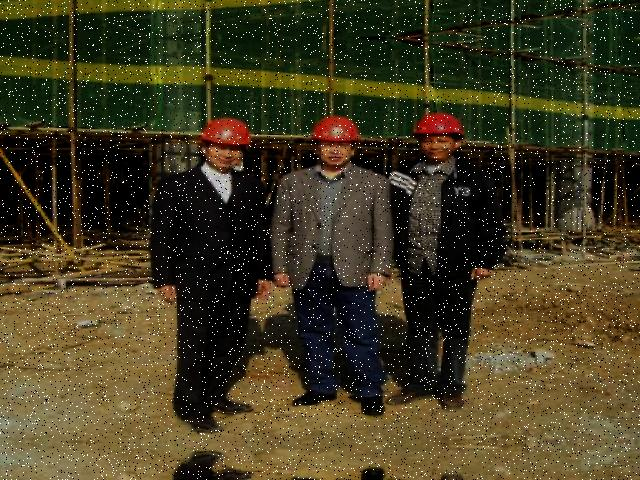Helmet: (405, 109, 471, 147), (193, 115, 255, 152), (303, 111, 361, 149)
